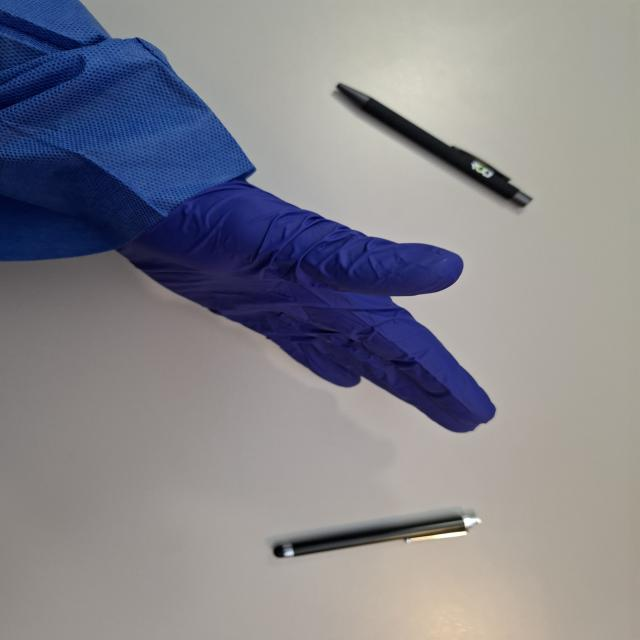glove_on: (98, 175, 500, 435)
